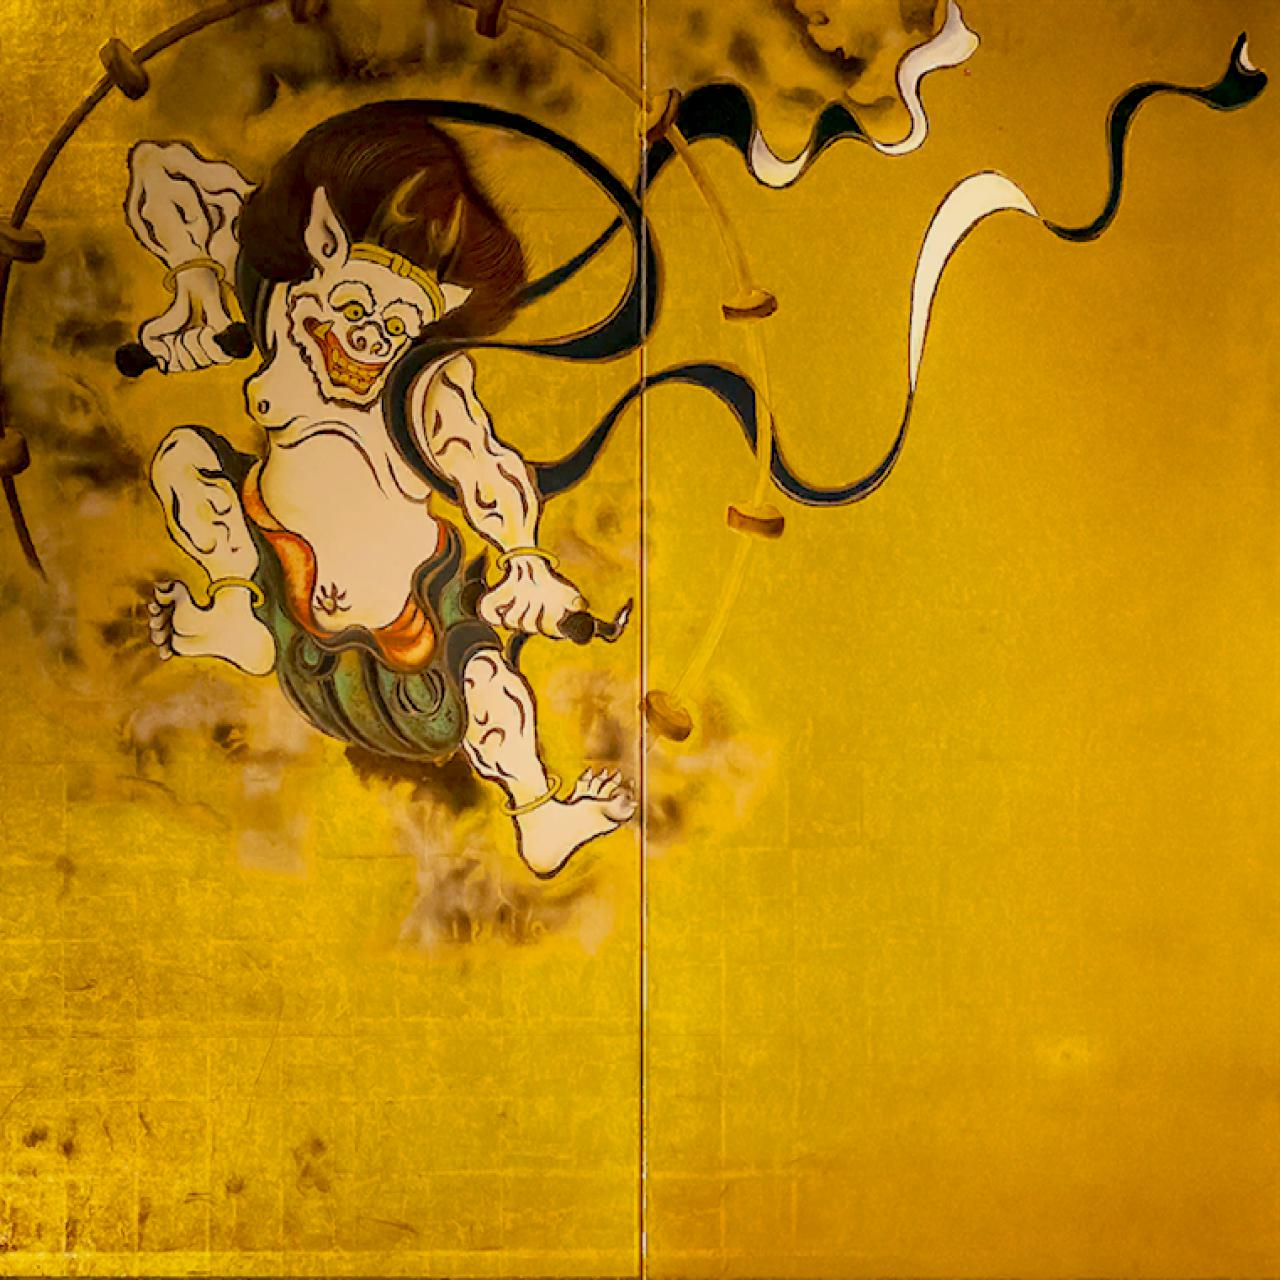Raijin: (1, 1, 1280, 1280)
